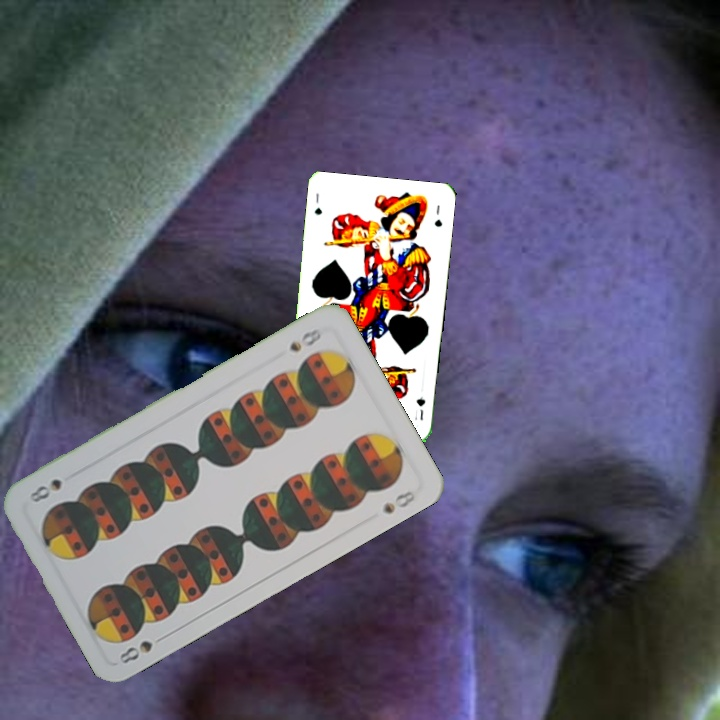GU: (412, 392, 428, 423), (310, 189, 324, 218)
S8: (115, 630, 170, 667), (285, 324, 324, 355)
